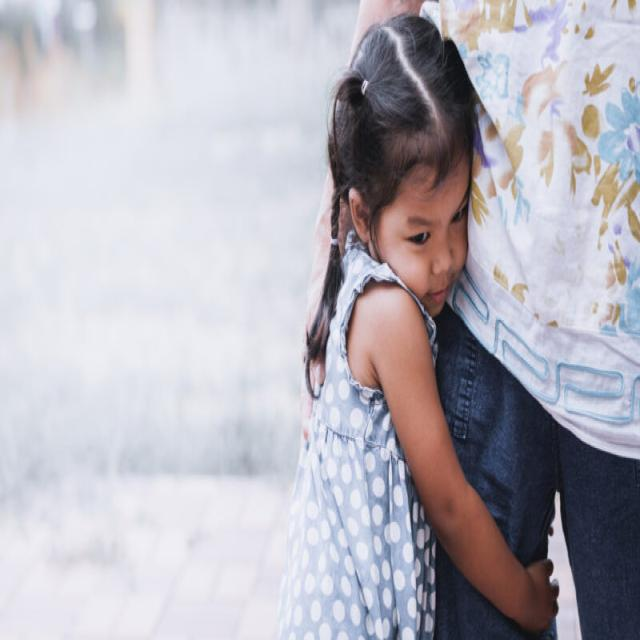child: (282, 18, 559, 640)
